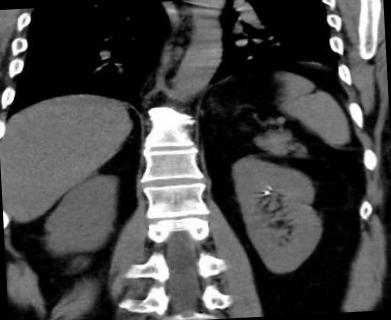Tas_Var: (263, 190, 270, 196), (265, 185, 273, 190)
